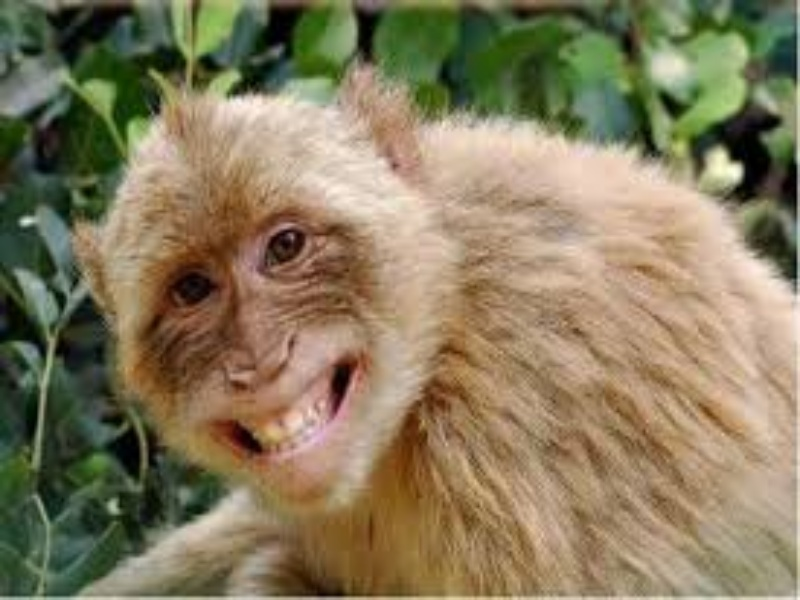monkey: (28, 59, 800, 596)
